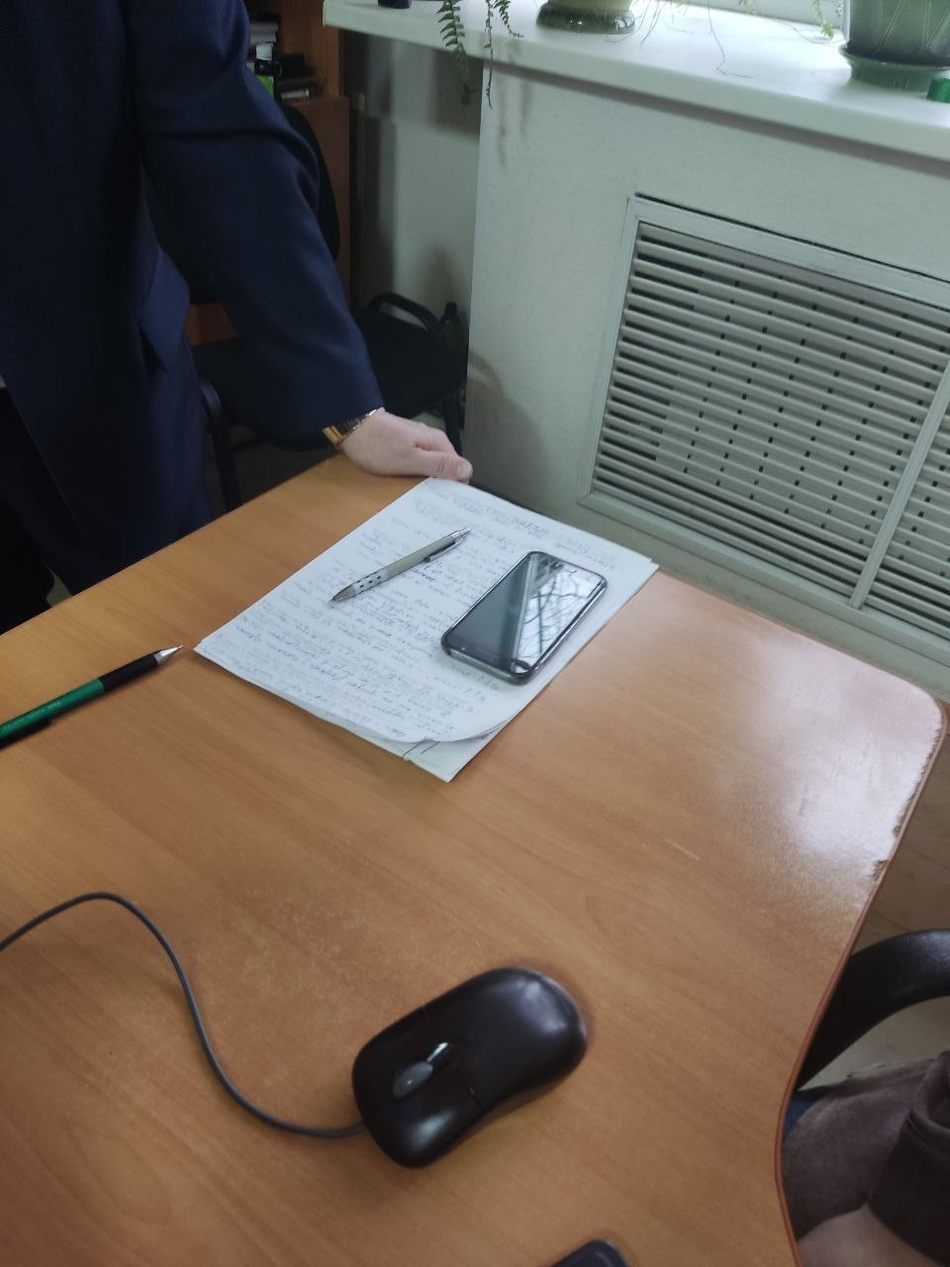cell phone: (441, 547, 606, 688)
